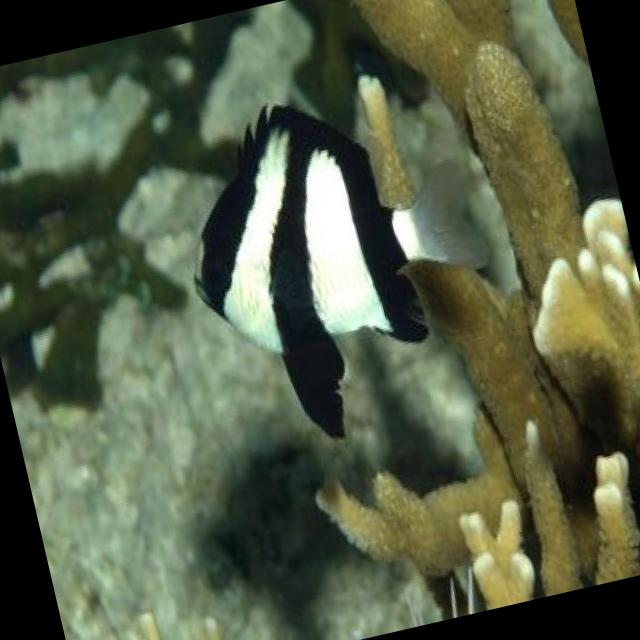Three_striped DasmselFish: (155, 58, 526, 466)
